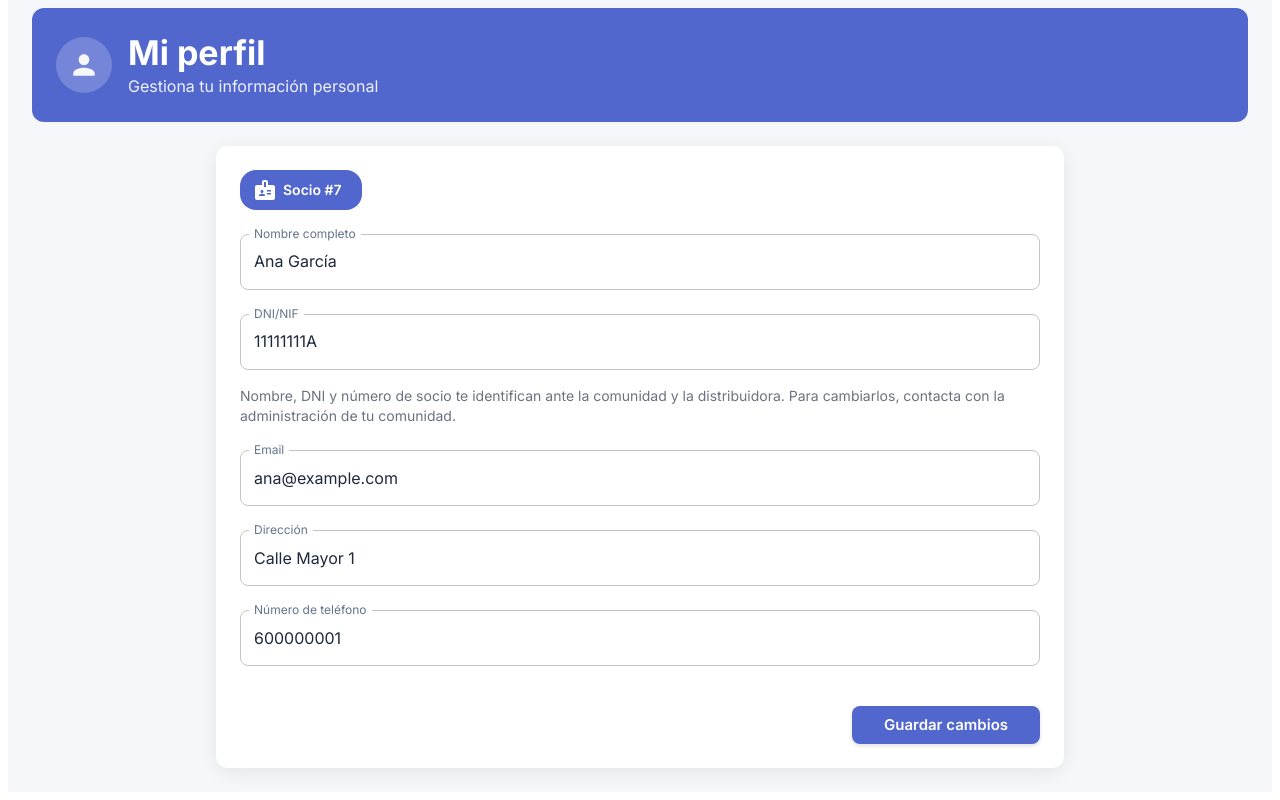
it: ProfilePage save › confirms a successful save
(page scrolled)
Click the button "Guardar cambios" at [946, 725], box [852,706,1040,744]
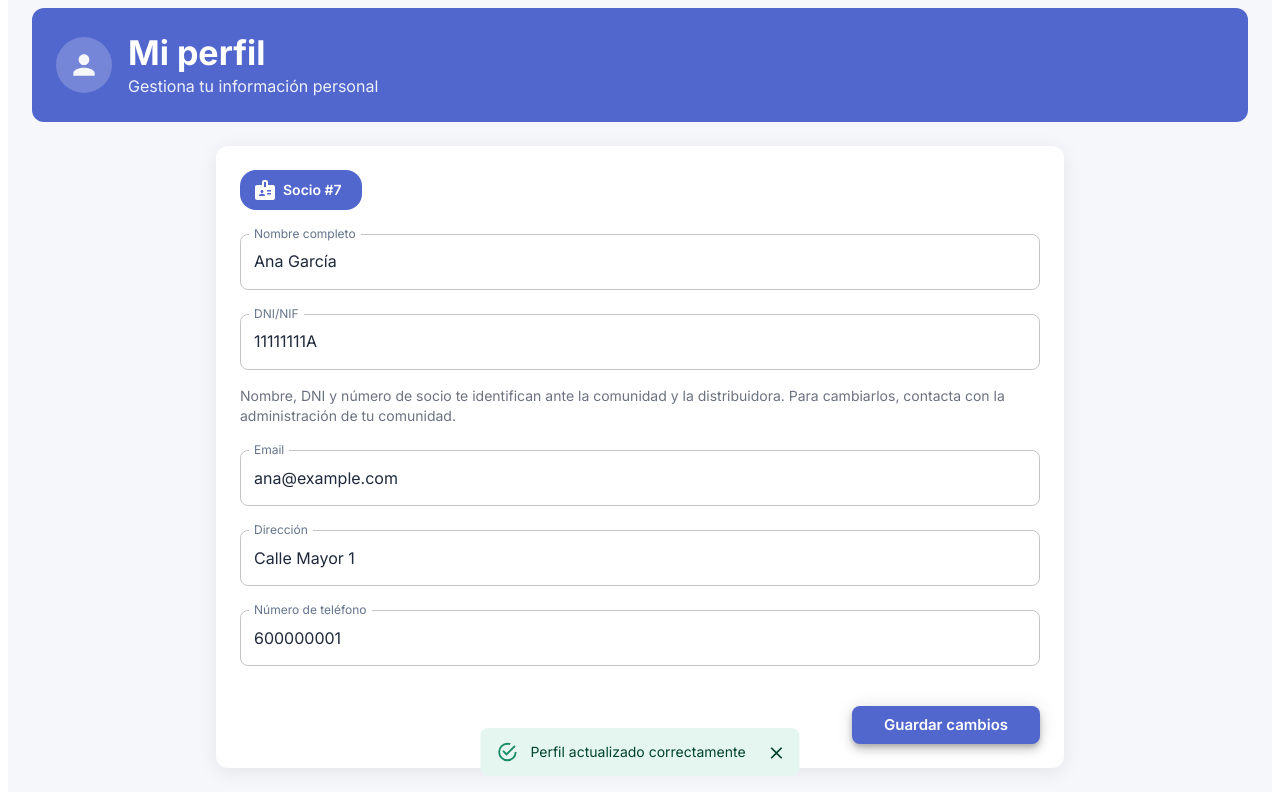
expect the text "Perfil actualizado correctamente" is shown: met, box [530,743,746,760]
